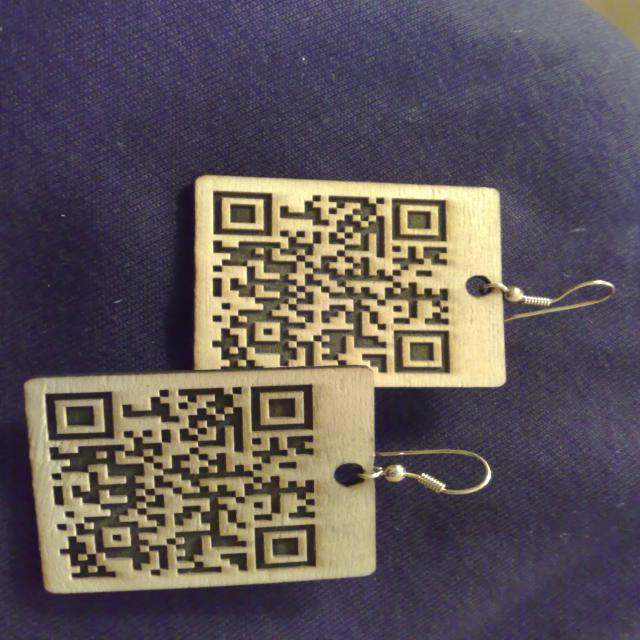qrcode: (46, 385, 317, 581), (213, 192, 451, 375)
